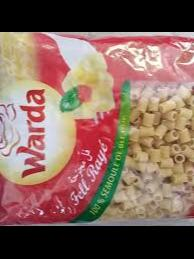Fell: (0, 39, 194, 226)
